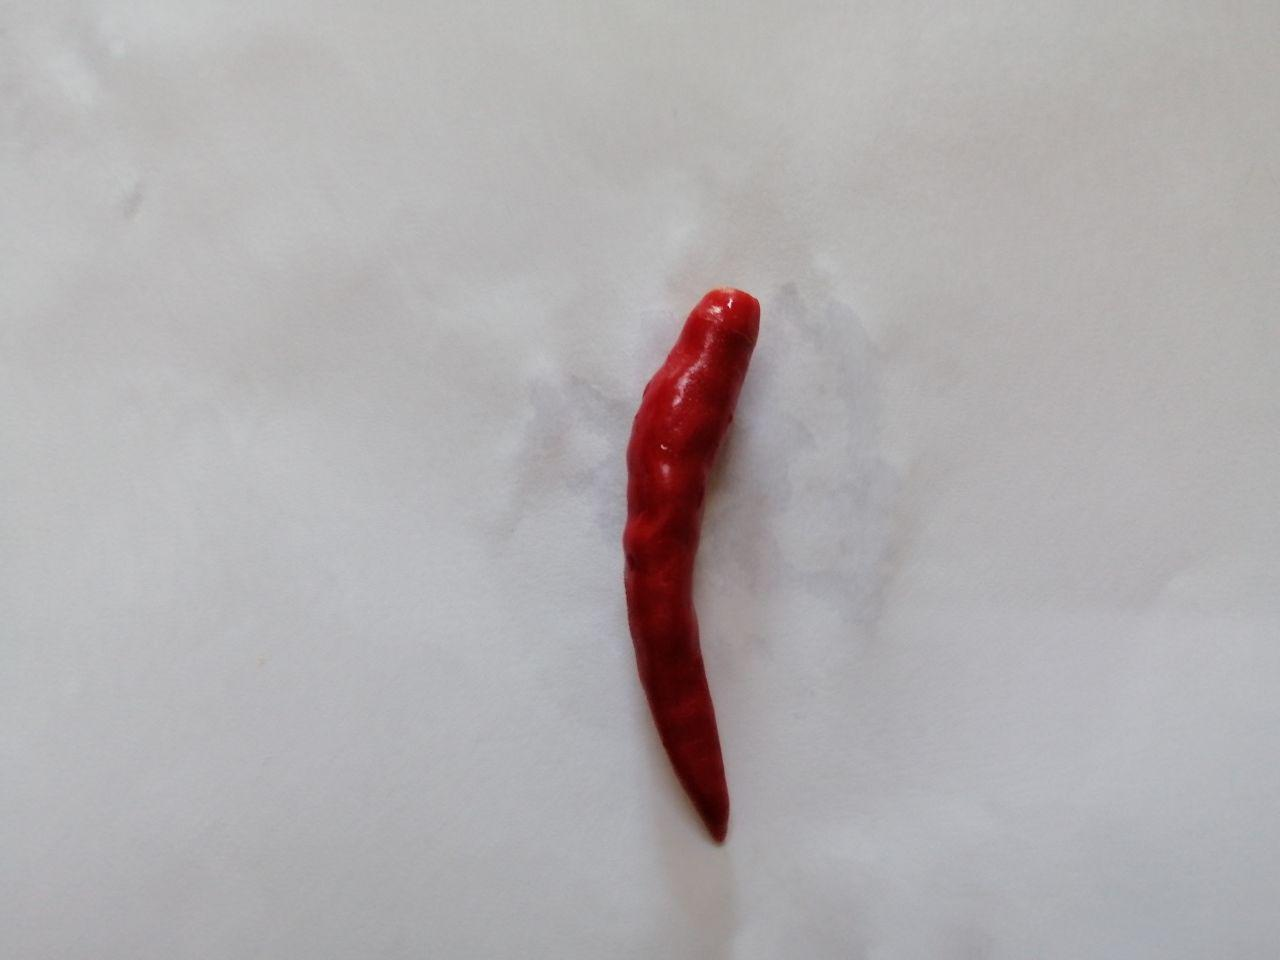lada merah: (593, 274, 824, 871)
